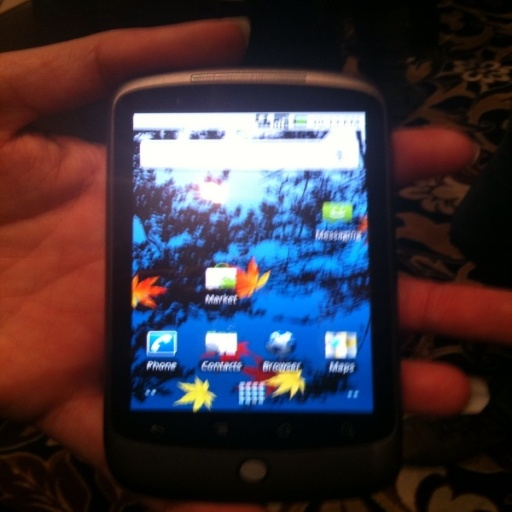hand: (0, 16, 510, 511)
